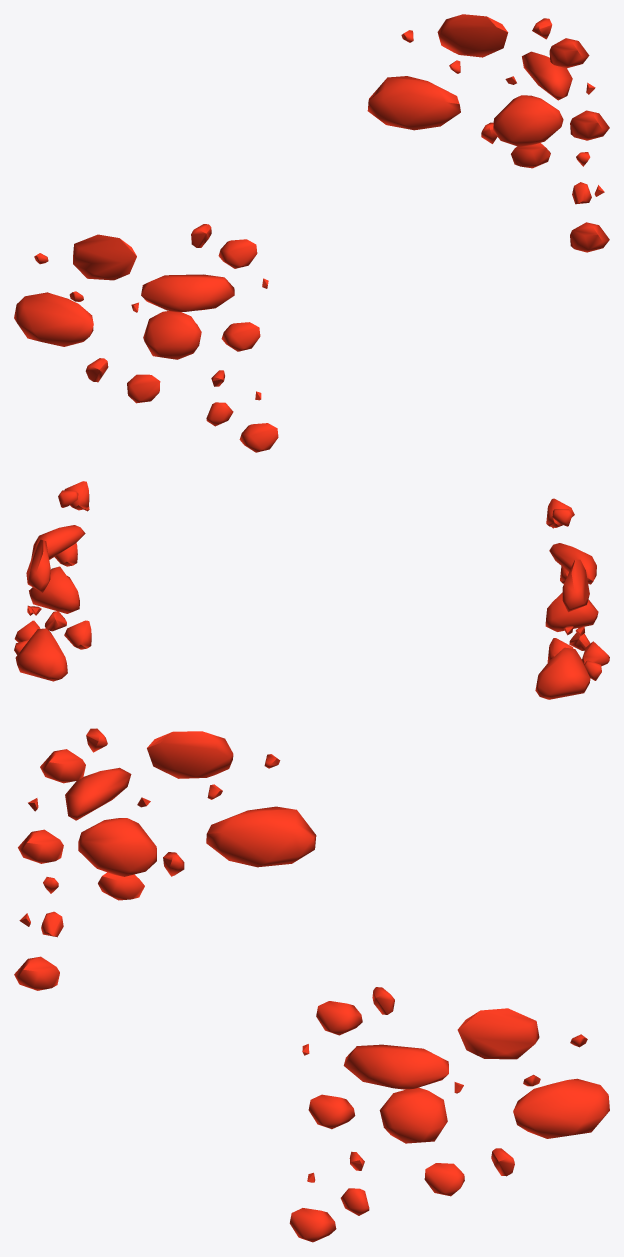
3 renders of one model, top to bottom at view 1: azimuth 30°, elevation 25°; view 2: azimuth 150°, elevation 25°; view 3: azimuth 270°, elevation 25°, orthographic. The views are drawn at different scales.
Visible parts, largest first — view 1: 42; view 2: 42; view 3: 42.
Part boxes in pixels (left/top/right/bottom): 42: left=14, top=14, right=609, bottom=452; 42: left=14, top=481, right=609, bottom=699; 42: left=14, top=728, right=609, bottom=1242.
Bounding box in the file's own units: 111 × 81.74 × 36.24.
